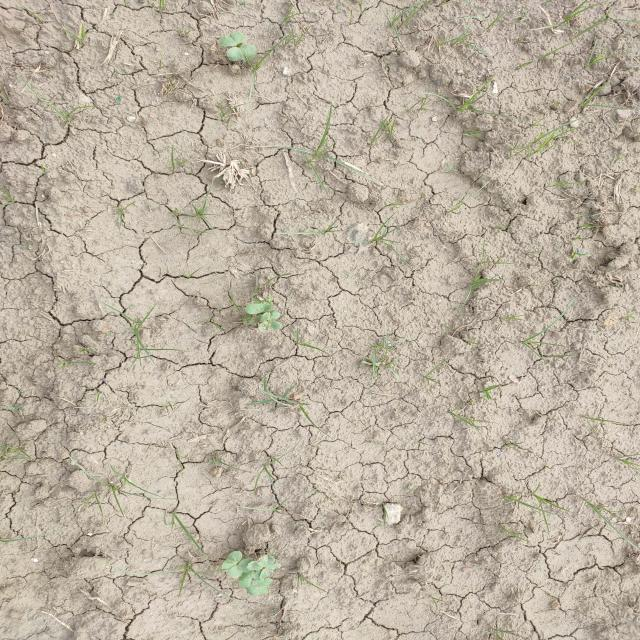seedling_s2: (228, 559, 255, 578), (227, 45, 256, 61), (246, 555, 275, 571), (221, 551, 242, 572), (219, 32, 247, 46), (260, 563, 281, 581), (238, 570, 254, 588), (245, 304, 272, 314), (247, 580, 264, 595), (258, 321, 281, 332), (259, 578, 273, 595), (260, 311, 280, 320), (243, 316, 260, 325)
